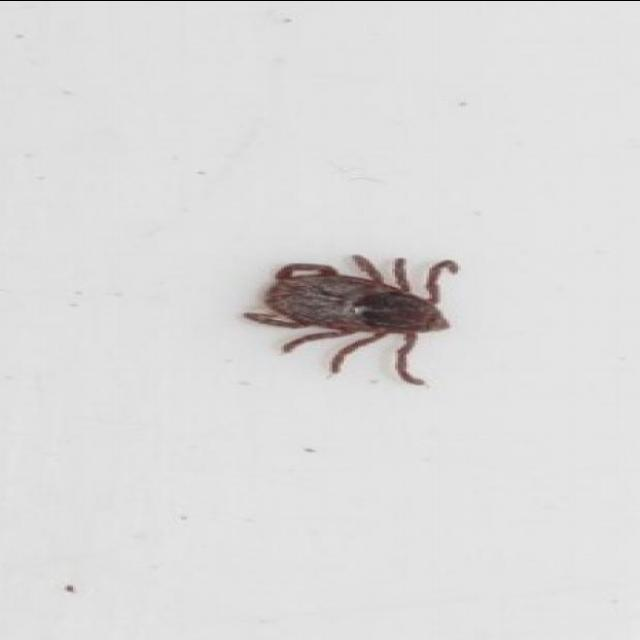Rhipicephalus Sanguineus-F: (238, 256, 461, 388)
